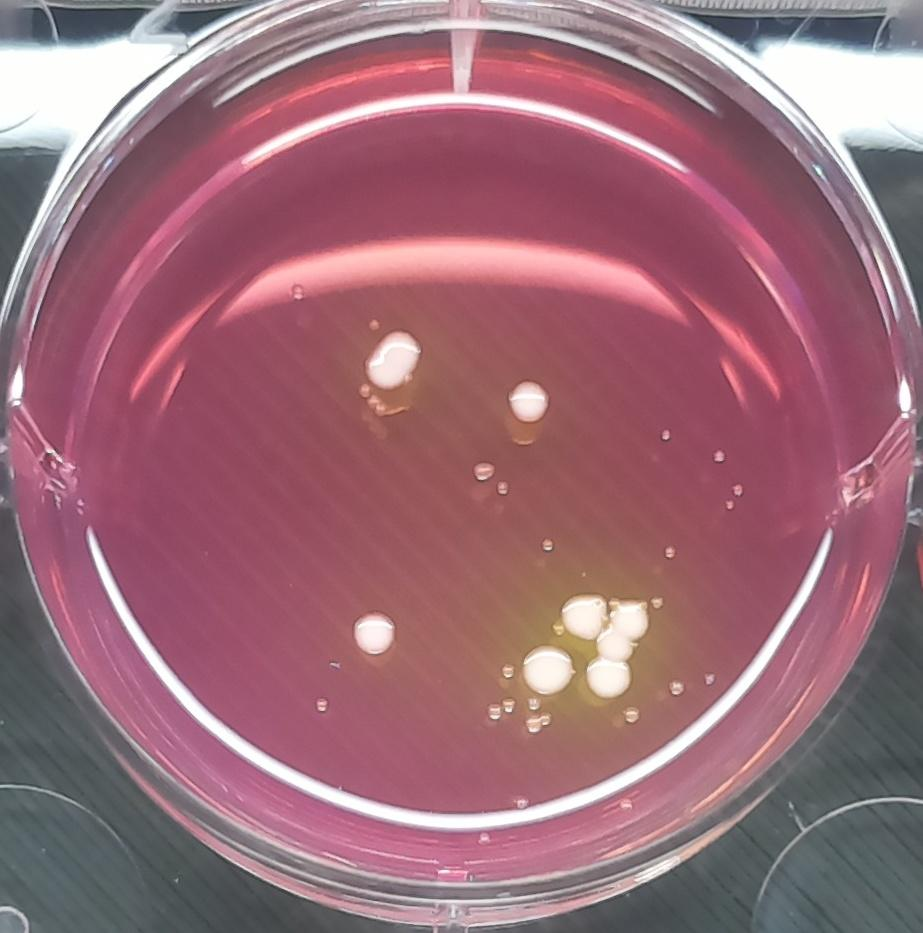staphylo-: (585, 594, 656, 706), (360, 324, 431, 397), (338, 600, 403, 669), (500, 370, 556, 435), (520, 641, 577, 697), (555, 589, 611, 640)
